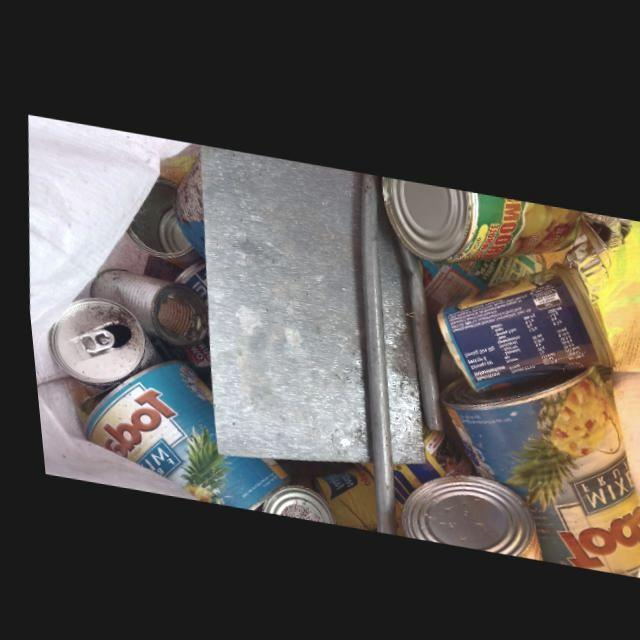aluminum: (433, 355, 640, 566), (76, 357, 278, 505), (433, 253, 607, 383), (384, 169, 582, 255), (390, 466, 532, 551), (40, 296, 143, 395), (80, 267, 196, 348), (413, 244, 540, 308), (121, 173, 199, 265), (557, 200, 626, 288), (169, 140, 200, 255), (247, 479, 324, 518)
